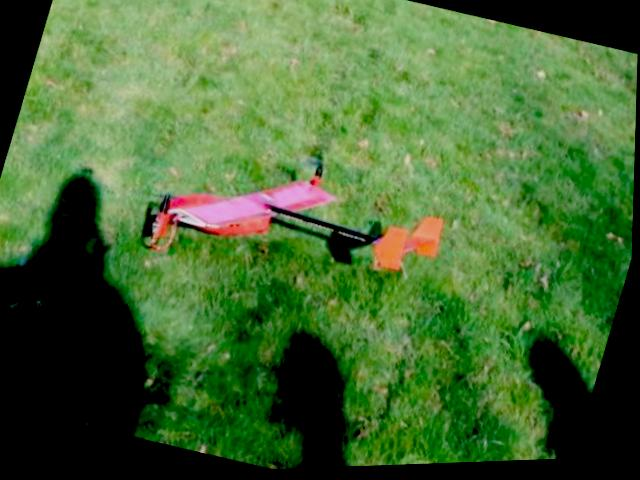uav: (130, 102, 470, 334)
